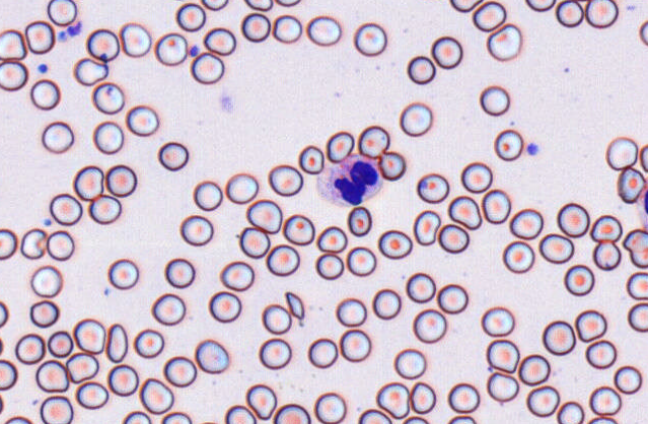GRAN: (314, 158, 383, 206)
PLT: (68, 22, 83, 36), (527, 143, 541, 158), (56, 29, 68, 42), (189, 43, 199, 57), (37, 62, 48, 73), (42, 218, 51, 225)
RBC: (486, 23, 521, 61), (139, 377, 174, 414), (246, 199, 282, 234), (376, 381, 409, 419), (412, 308, 446, 343), (447, 195, 482, 229), (245, 383, 277, 420), (195, 339, 229, 373), (353, 22, 387, 56), (542, 320, 575, 355), (556, 202, 589, 237), (399, 101, 432, 136), (73, 318, 105, 354), (35, 359, 69, 392), (486, 339, 519, 373), (605, 136, 638, 170), (190, 51, 224, 84), (154, 32, 187, 66), (265, 244, 300, 276), (268, 164, 303, 196), (119, 22, 151, 57), (91, 81, 124, 114), (86, 28, 119, 61), (41, 120, 74, 153), (163, 355, 197, 387), (151, 293, 185, 325), (179, 214, 213, 246), (92, 120, 124, 154), (219, 260, 254, 291), (73, 165, 104, 200), (306, 15, 341, 46), (538, 233, 574, 263), (481, 188, 511, 224), (107, 363, 139, 396), (526, 385, 559, 417), (357, 125, 389, 158), (208, 291, 241, 323), (339, 329, 371, 362), (258, 337, 291, 369), (575, 309, 607, 342), (282, 213, 315, 245), (225, 172, 258, 204), (502, 240, 534, 273), (105, 164, 137, 197), (49, 193, 82, 225), (65, 352, 99, 383), (509, 208, 543, 239), (472, 0, 506, 31), (431, 35, 462, 69), (238, 226, 270, 258), (518, 353, 550, 385), (460, 161, 492, 193), (30, 265, 62, 297), (486, 371, 519, 402), (393, 348, 426, 379), (416, 172, 449, 203), (125, 105, 158, 136), (378, 229, 412, 259), (24, 20, 54, 54), (436, 283, 468, 314), (314, 392, 346, 423), (447, 382, 479, 413), (563, 264, 594, 296), (481, 306, 514, 336), (88, 194, 121, 224), (493, 128, 523, 161), (75, 380, 109, 409), (261, 303, 292, 334), (405, 272, 436, 303), (307, 337, 338, 368), (14, 333, 45, 364), (164, 257, 195, 288), (107, 258, 138, 289), (623, 228, 647, 268), (589, 385, 621, 415), (437, 223, 469, 253), (30, 78, 60, 110), (39, 395, 73, 423), (584, 0, 618, 28), (335, 297, 366, 327), (192, 180, 222, 211), (133, 328, 164, 358), (585, 339, 616, 369), (479, 85, 509, 116), (157, 141, 188, 171), (590, 214, 622, 243), (203, 27, 236, 55), (346, 246, 376, 276), (372, 288, 401, 319), (175, 2, 206, 31), (326, 130, 354, 162), (241, 12, 270, 42), (272, 14, 302, 43), (316, 225, 347, 253), (0, 60, 28, 91), (20, 227, 47, 259), (592, 241, 621, 270), (613, 365, 642, 394), (406, 55, 435, 84), (29, 299, 59, 327), (46, 230, 74, 260), (0, 28, 26, 60), (377, 151, 405, 180), (315, 253, 344, 280), (555, 0, 584, 27), (298, 144, 324, 174), (47, 0, 77, 26), (347, 206, 372, 236), (273, 403, 310, 423), (47, 330, 73, 357), (556, 401, 584, 423), (626, 271, 647, 300), (224, 404, 256, 423), (627, 302, 647, 332), (0, 358, 17, 390), (0, 228, 17, 260), (358, 408, 391, 423), (449, 0, 482, 12), (122, 410, 151, 423), (160, 411, 191, 423), (525, 0, 555, 11), (244, 0, 273, 11), (201, 0, 228, 10), (639, 143, 648, 172), (447, 414, 476, 423), (639, 19, 648, 46), (4, 415, 32, 423), (0, 300, 8, 327), (401, 415, 428, 423), (587, 416, 617, 423), (275, 0, 301, 7), (414, 0, 443, 3), (0, 393, 4, 414), (0, 336, 4, 355), (198, 421, 217, 424)
Schistocyte: (617, 164, 646, 204), (72, 58, 111, 85), (410, 382, 437, 415), (107, 323, 128, 364), (285, 292, 304, 319)
